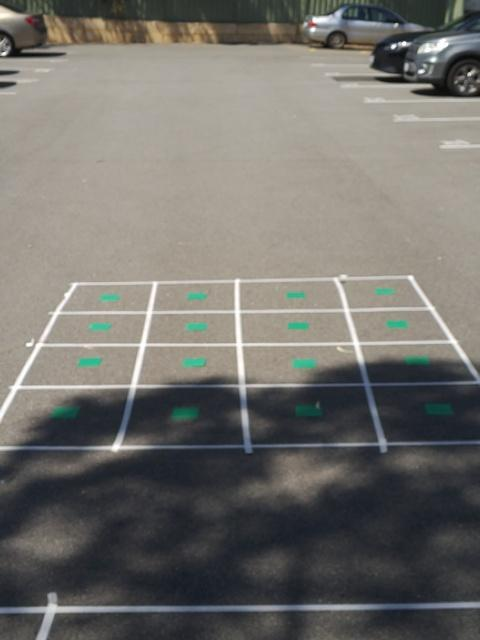weed: (49, 406, 79, 420), (423, 401, 452, 415), (295, 405, 321, 418), (172, 407, 197, 420), (404, 354, 429, 367), (181, 356, 206, 368), (77, 356, 101, 368), (292, 358, 316, 370), (386, 317, 407, 330), (88, 322, 111, 332), (287, 322, 310, 331), (185, 322, 206, 331), (99, 293, 118, 302), (375, 287, 393, 296), (185, 292, 205, 300), (286, 291, 306, 299)
